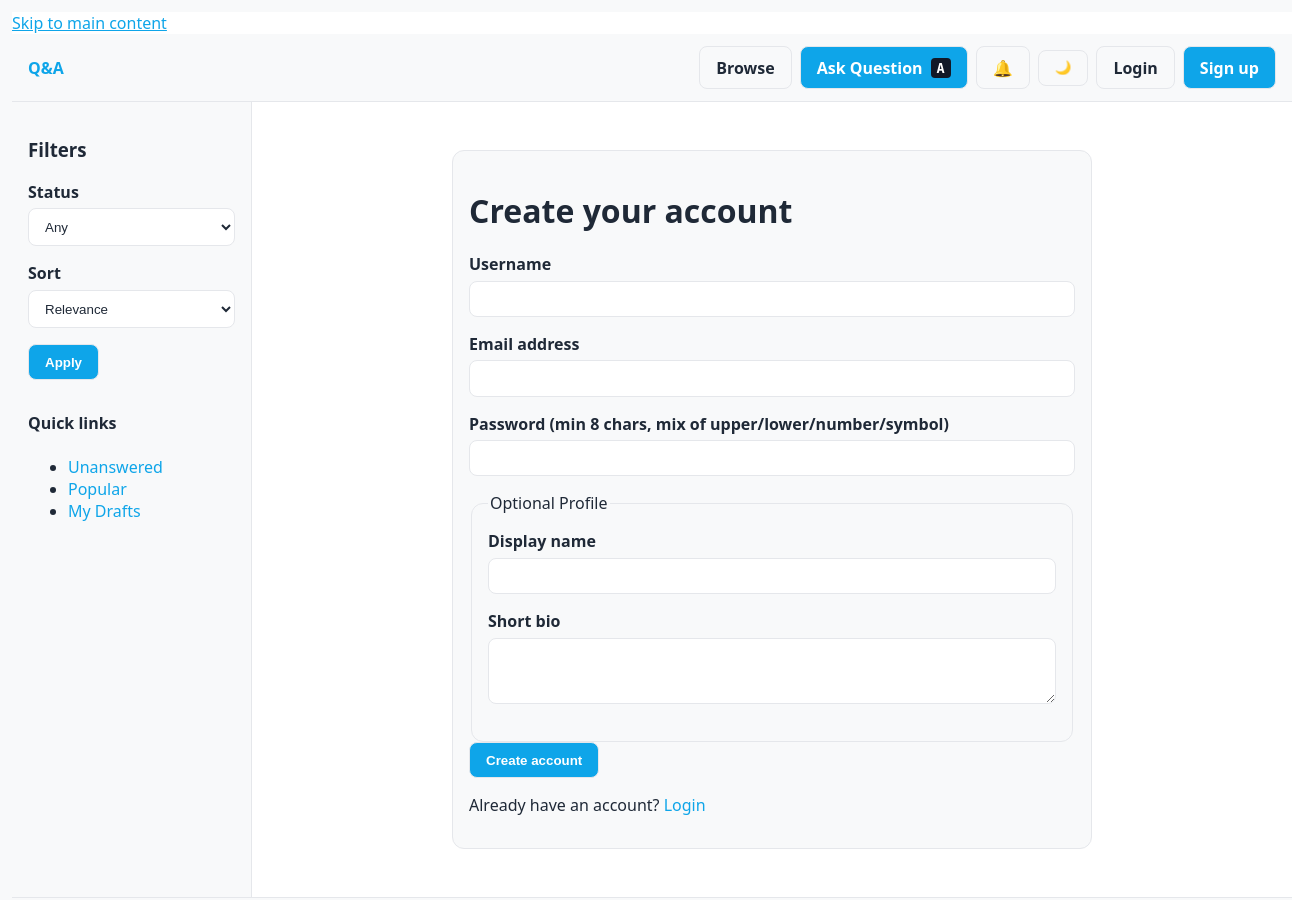
Scenario: Auth flows › register success navigates to verify email page
This screenshot has width=1292, height=900.
In the field labelled "Username": (772, 299) x1=469 y1=281 x2=1075 y2=317, type "newuser"
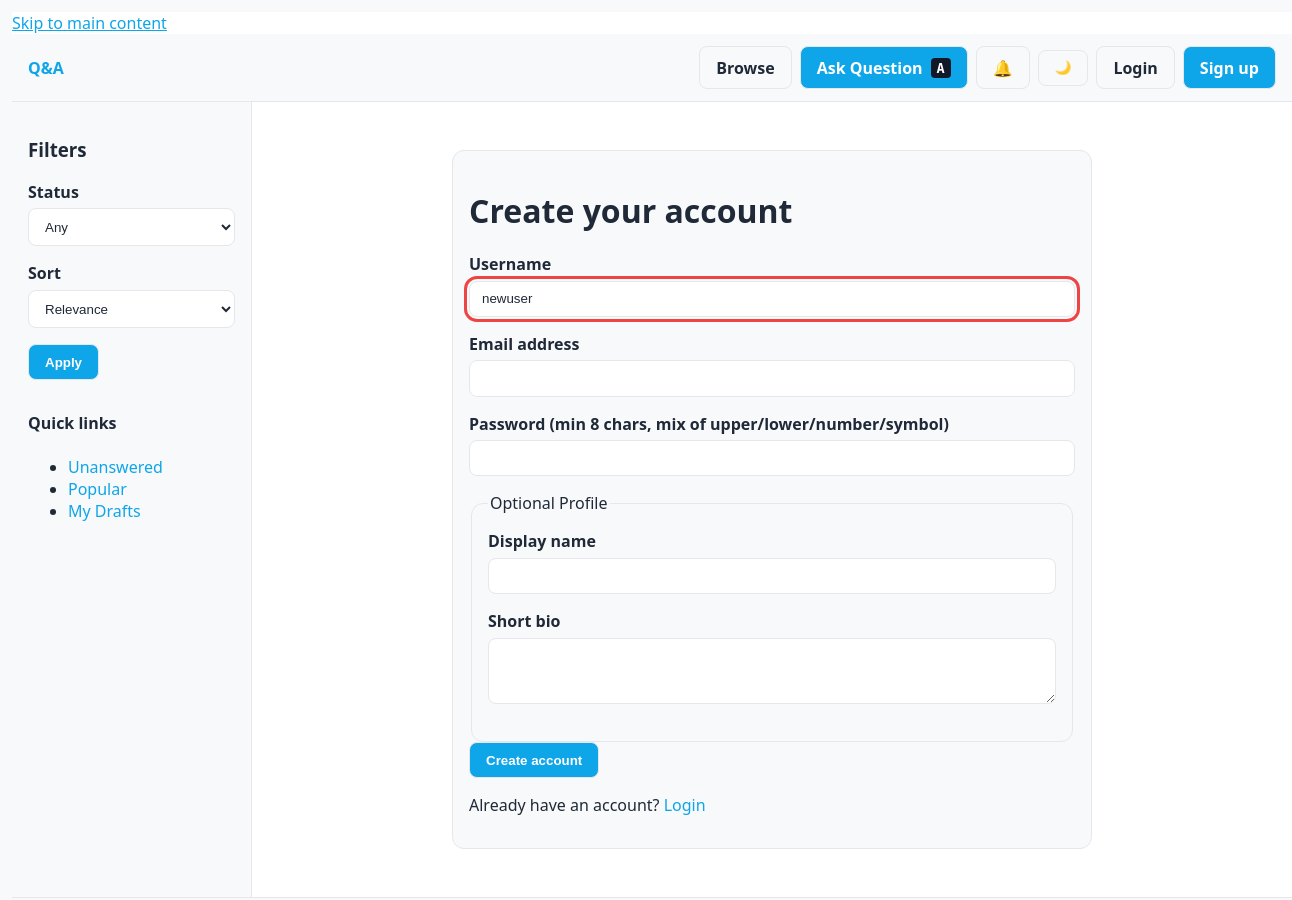
In the field labelled "Email address": (772, 378) x1=469 y1=360 x2=1075 y2=397, type "new@ex.com"
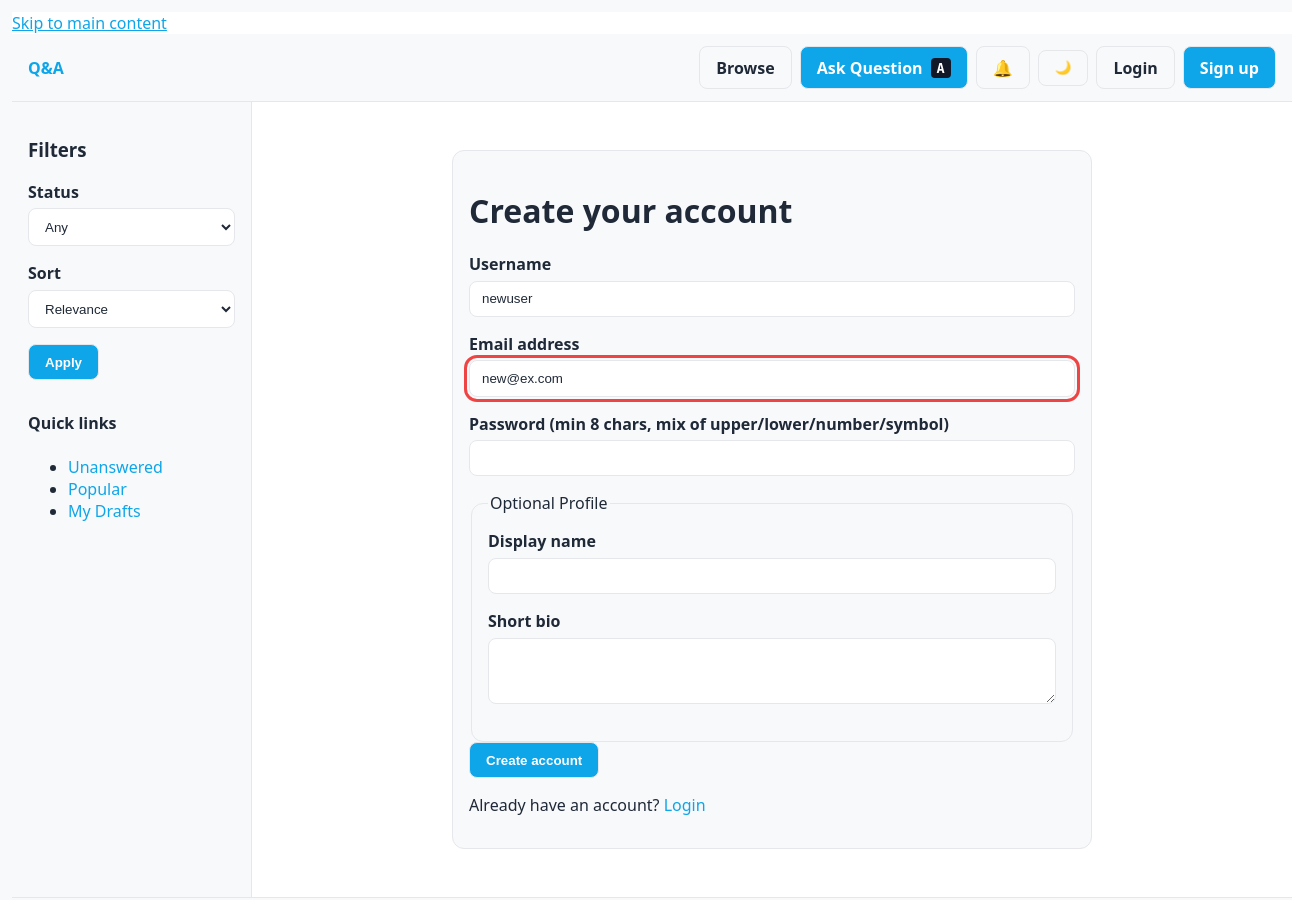
In the password field labelled "Password (min 8 chars, mix of upper/lower/number/symbol)": (772, 458) x1=469 y1=440 x2=1075 y2=476, type "Passw0rd!"
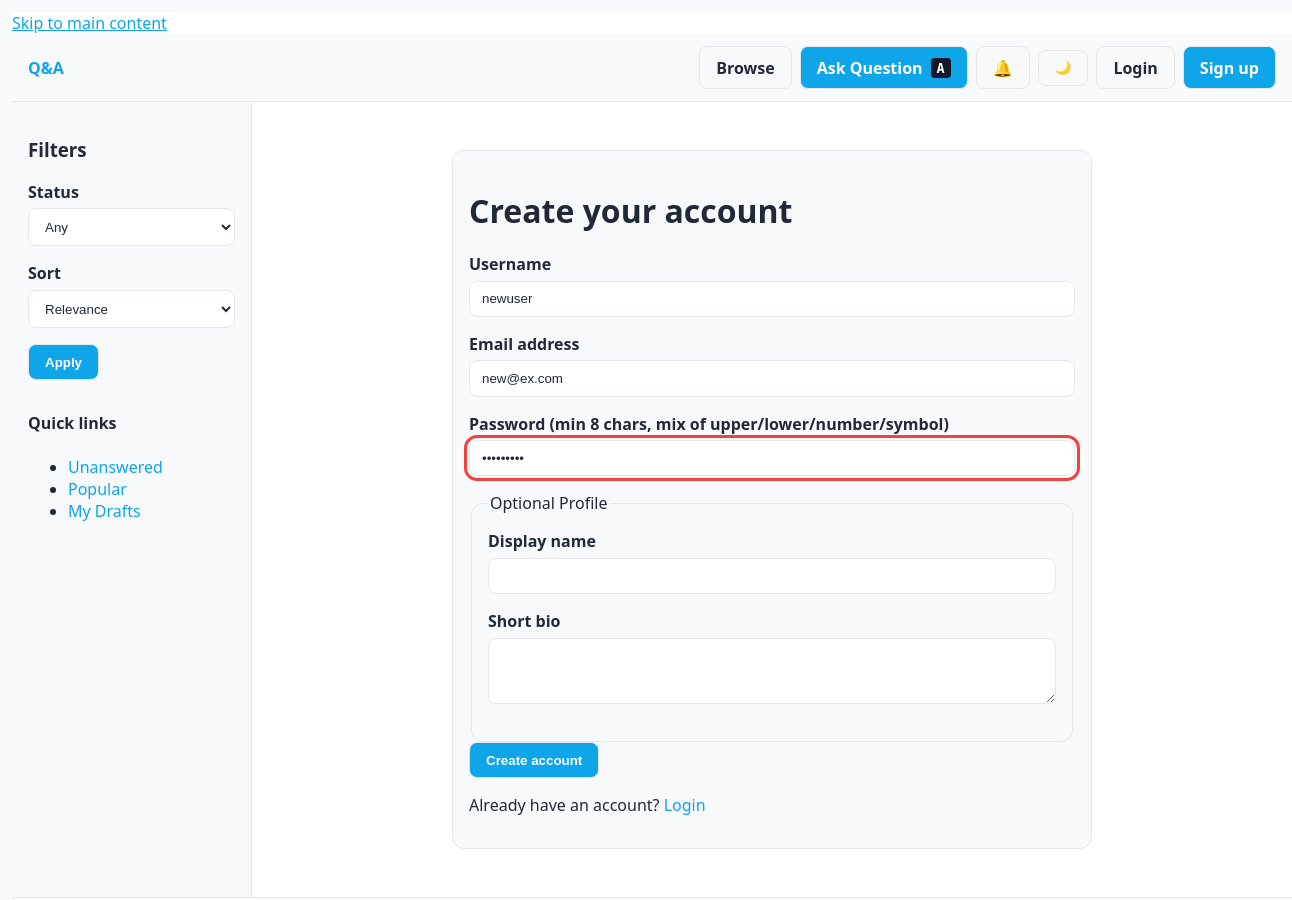
Click the button "Create account": (534, 760) x1=469 y1=742 x2=599 y2=778
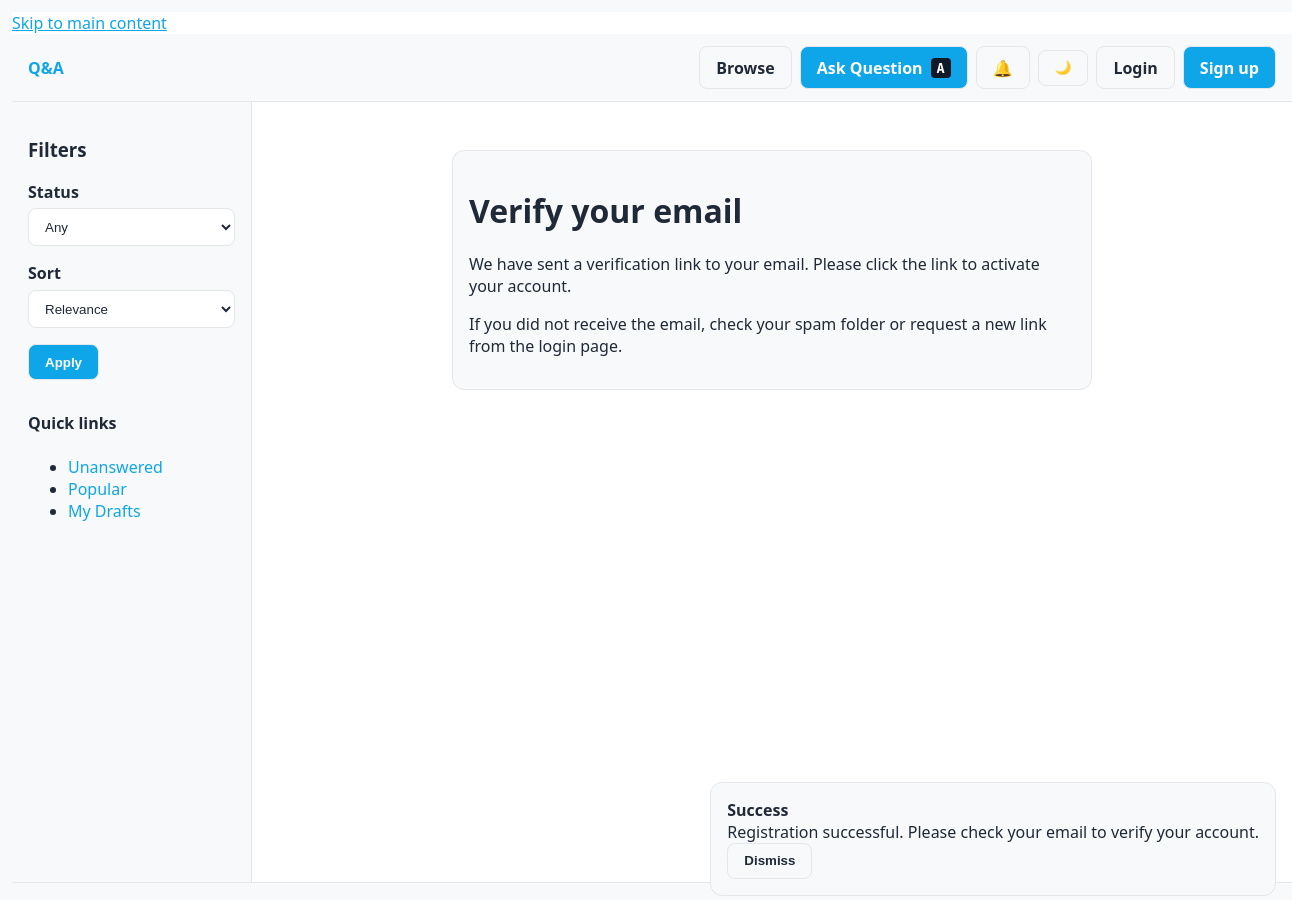
Expected: the heading "Verify your email" is shown, x1=469 y1=189 x2=742 y2=232
